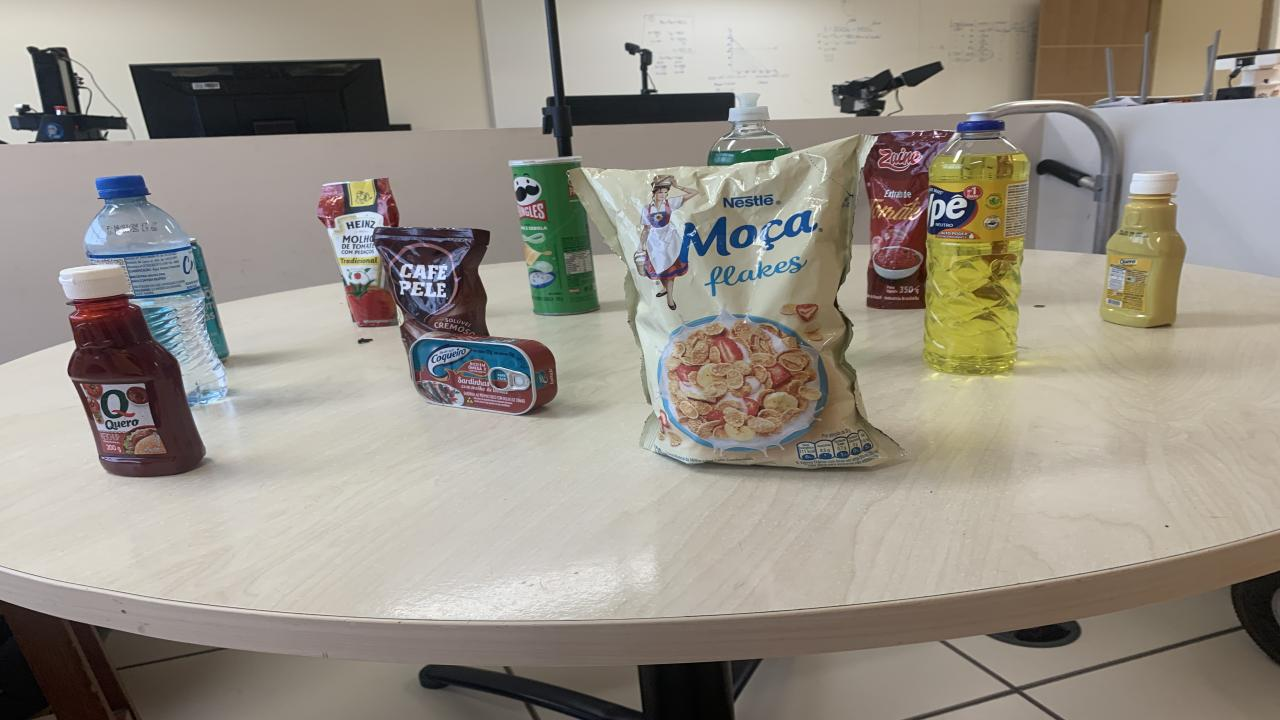Coffee-Pantry_Items: (372, 227, 490, 349)
Detergent-Cleanup_Items: (922, 120, 1030, 375), (708, 92, 792, 165)
Flakes-Snacks: (570, 135, 902, 469)
Ketchup-Pantry_Items: (60, 264, 205, 476)
Mustard-Pantry_Items: (1100, 171, 1185, 328)
Pringles-Snacks: (510, 156, 600, 315)
Tomato_Sauce-Pantry_Items: (862, 129, 952, 309), (318, 178, 398, 328)
Tuna_Can-Pantry_Items: (410, 334, 558, 414)
Water_Bottle-Drinks: (85, 176, 225, 405)
